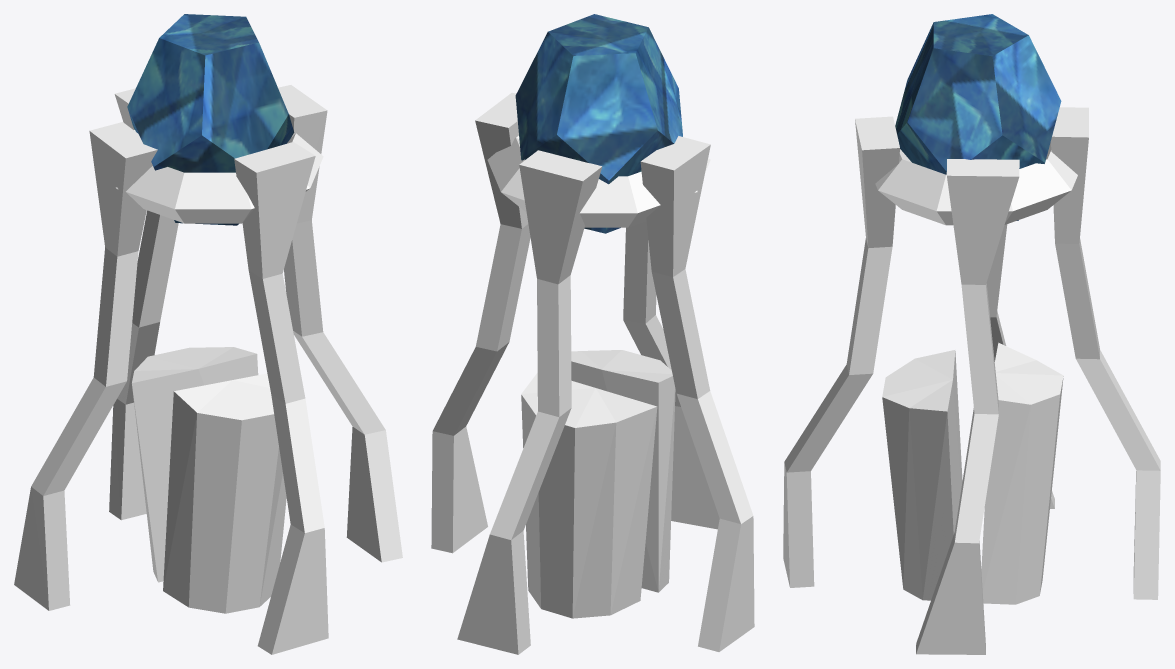
The model's file is p2_crystal.fbx.
The picture shows the model from 3 angles, left to right: view 1: azimuth 30°, elevation 25°; view 2: azimuth 150°, elevation 25°; view 3: azimuth 270°, elevation 25°; orthographic projection.
Parts seen in each view (by area): view 1: dodecahedron; view 2: dodecahedron; view 3: dodecahedron.
Boxes of the visible parts, x1=… form: dodecahedron: x1=14, y1=14, x2=402, y2=654; dodecahedron: x1=431, y1=14, x2=754, y2=654; dodecahedron: x1=783, y1=14, x2=1160, y2=654.
Size of the model in its own units: 217 by 352 by 220.
